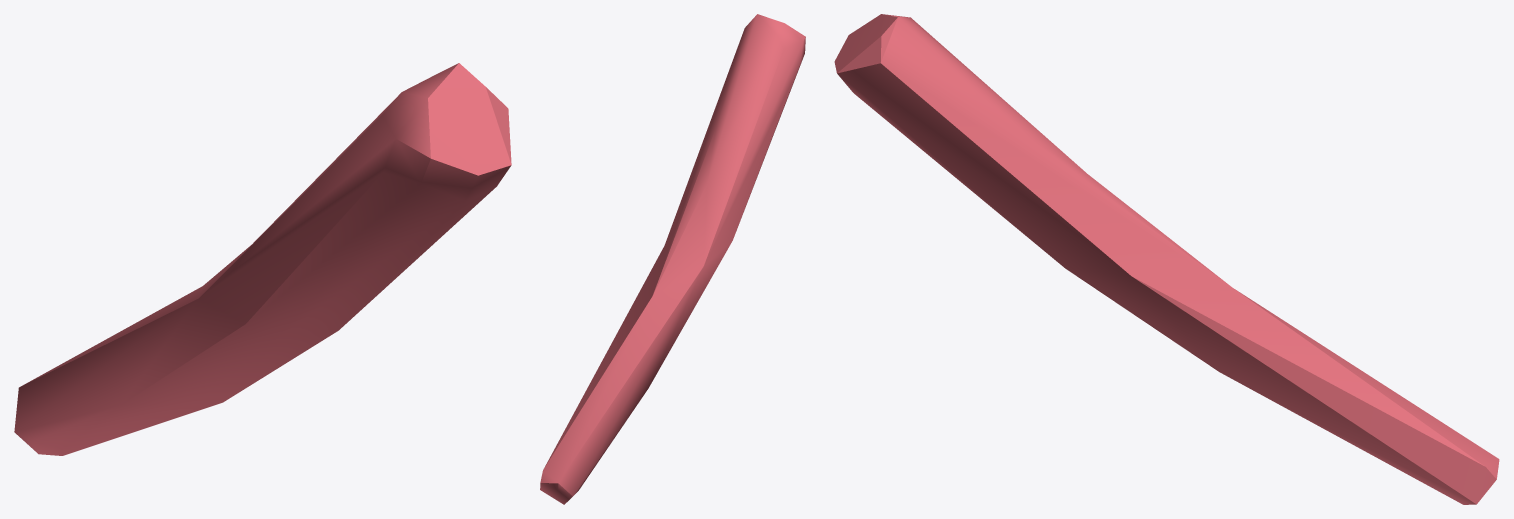
The model's file is fma68735_fj3010.glb.
The picture shows the model from 3 angles, left to right: view 1: azimuth 30°, elevation 25°; view 2: azimuth 150°, elevation 25°; view 3: azimuth 270°, elevation 25°; orthographic projection. The views are drawn at different scales.
Visible parts, largest first — view 1: FMA68735_FJ3010; view 2: FMA68735_FJ3010; view 3: FMA68735_FJ3010.
Part boxes in pixels (<box>): FMA68735_FJ3010: <box>14,63,511,455</box>; FMA68735_FJ3010: <box>540,14,805,504</box>; FMA68735_FJ3010: <box>834,14,1499,504</box>.
Bounding box in the file's own units: 0.00198 × 0.0109 × 0.0134.
